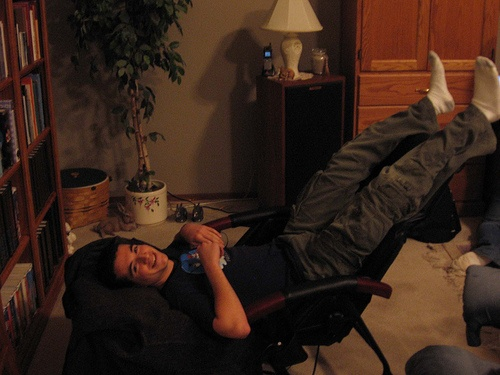head: (92, 238, 171, 291)
person: (86, 50, 500, 339)
